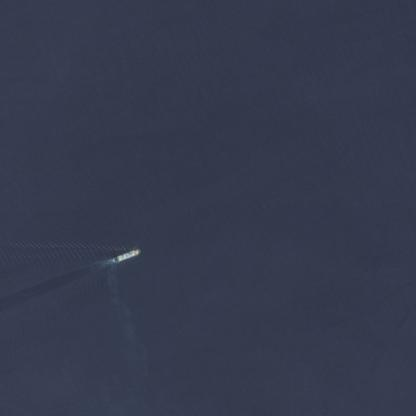ship: (107, 243, 146, 268)
